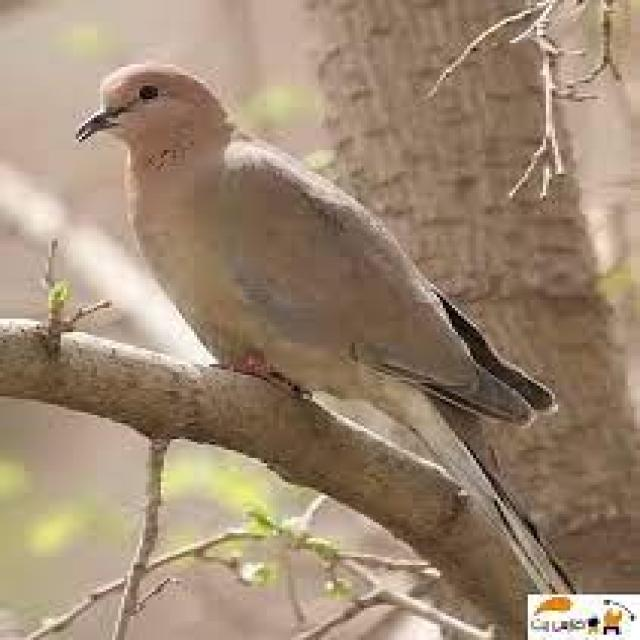dove: (71, 54, 588, 599)
